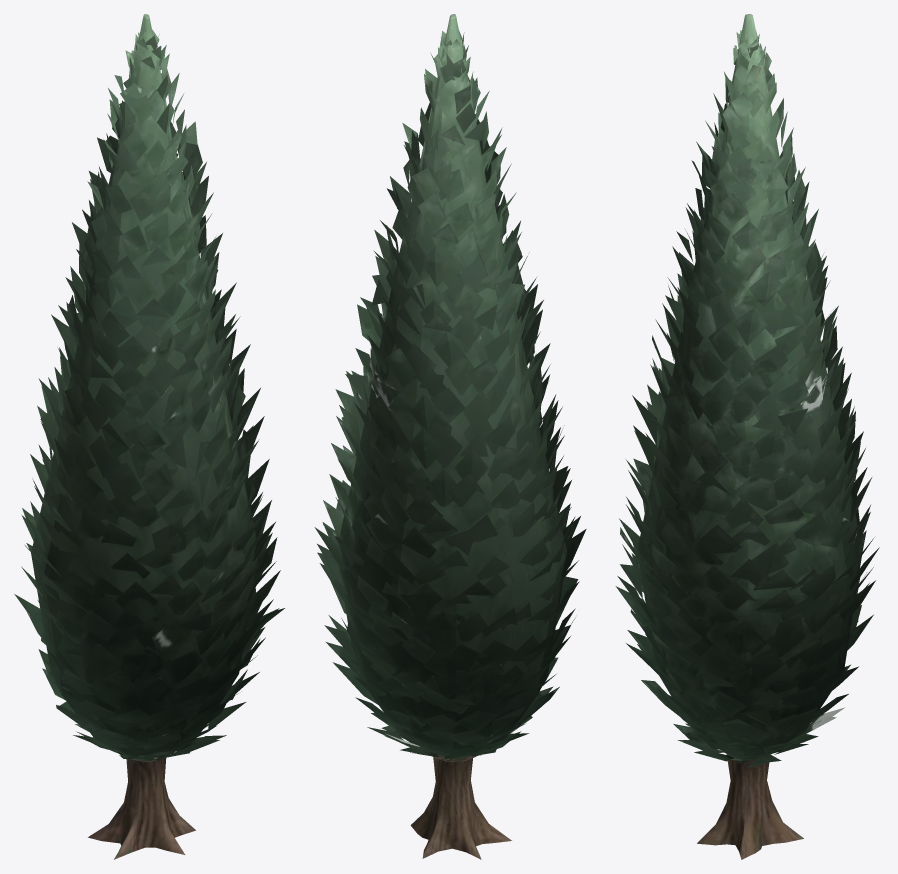
File: decor_tree_cypress.glb
The picture shows the model from 3 angles, left to right: view 1: azimuth 30°, elevation 25°; view 2: azimuth 150°, elevation 25°; view 3: azimuth 270°, elevation 25°; orthographic projection.
Visible parts, largest first — view 1: decor_tree_cypress; view 2: decor_tree_cypress; view 3: decor_tree_cypress.
Part boxes in pixels (x1,y1,x2,y2): decor_tree_cypress: (14,14,284,859); decor_tree_cypress: (314,14,586,859); decor_tree_cypress: (615,14,879,859).
Bounding box in the file's own units: 1.91 × 6.5 × 1.92.
1 material, 1 textured.
